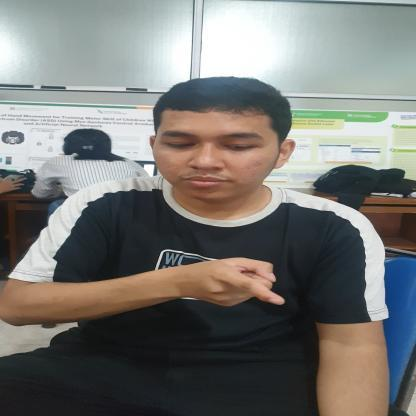Kamu: (168, 232, 312, 330)
